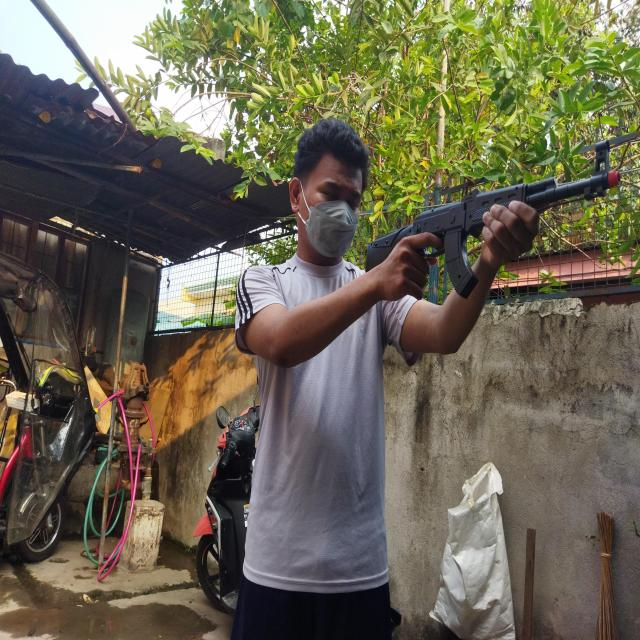rifle: (367, 139, 620, 297)
